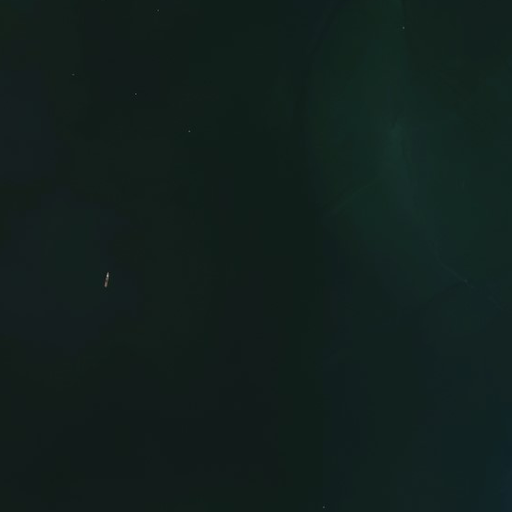ship: (101, 269, 112, 292)
